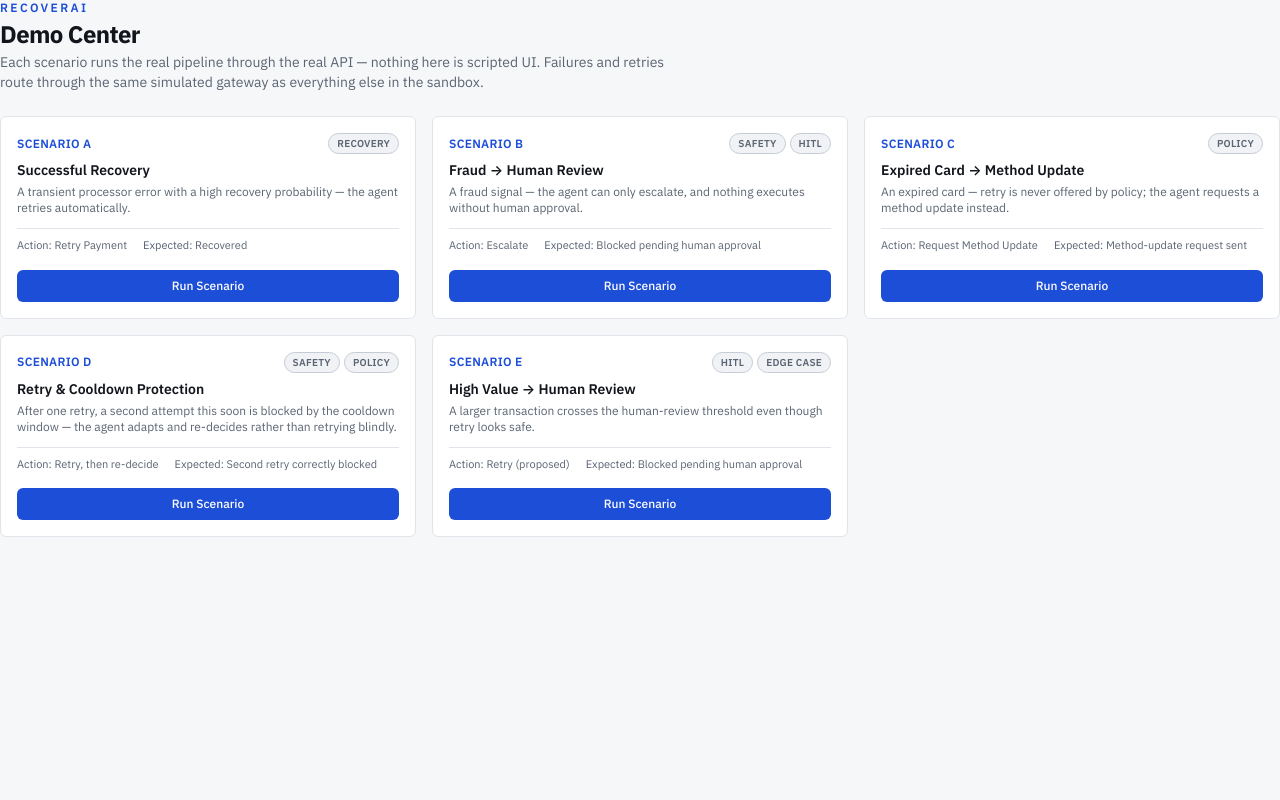
Test case: DemoCenter › renders the second-decision cooldown-protection step when the backend reports one
Click the button "Run Scenario" below "Retry, then re-decide". click: (208,504)
box: 17,488 -> 399,520
(page scrolled)
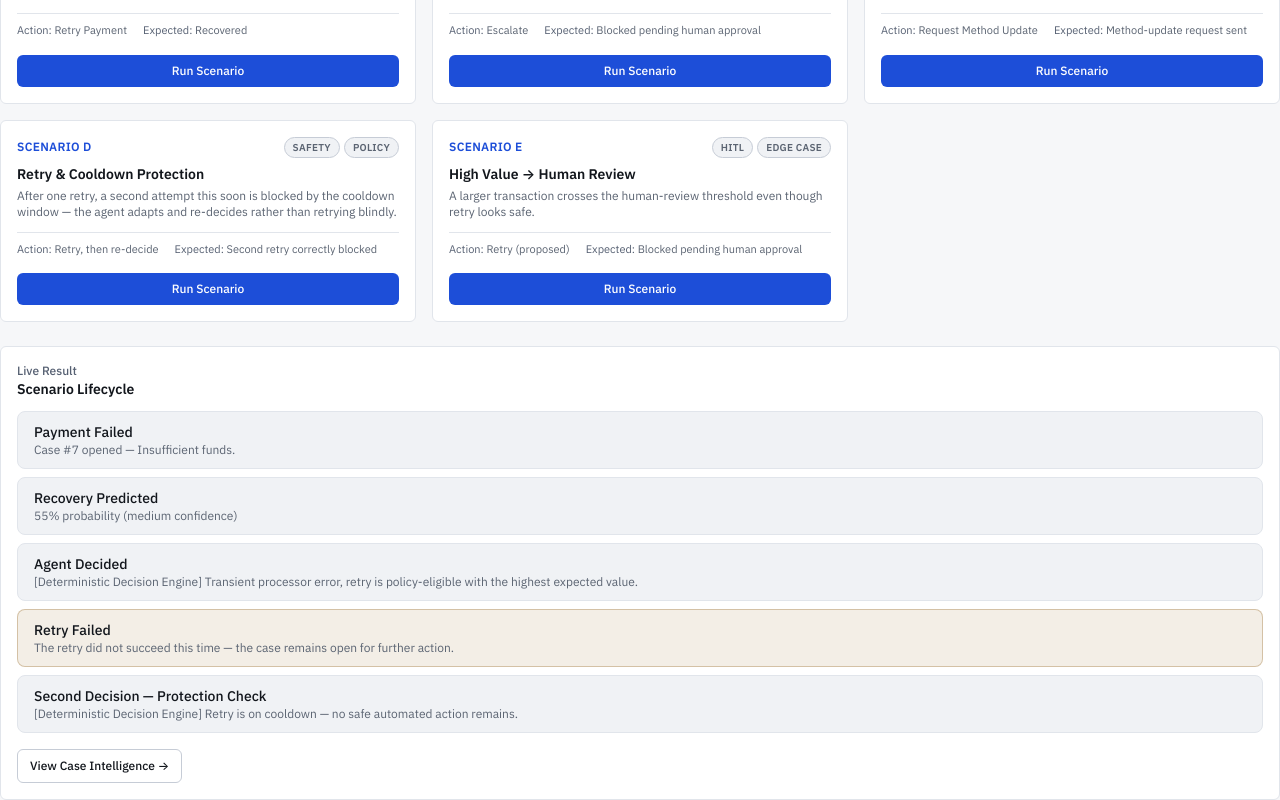
Result: the text "Second Decision — Protection Check" is shown at 34,687 -> 266,705
